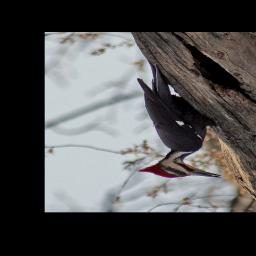Woodpecker: (135, 62, 224, 178)
